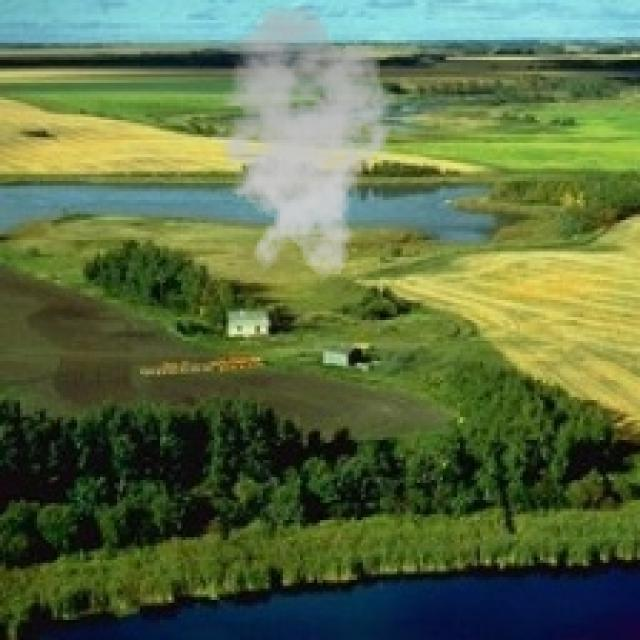Smoke: (200, 3, 403, 280)
